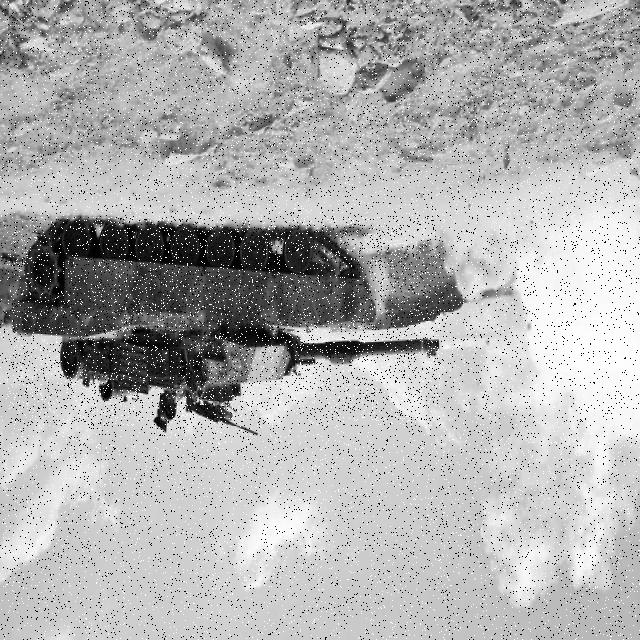MIL_MBT: (12, 217, 440, 425)
